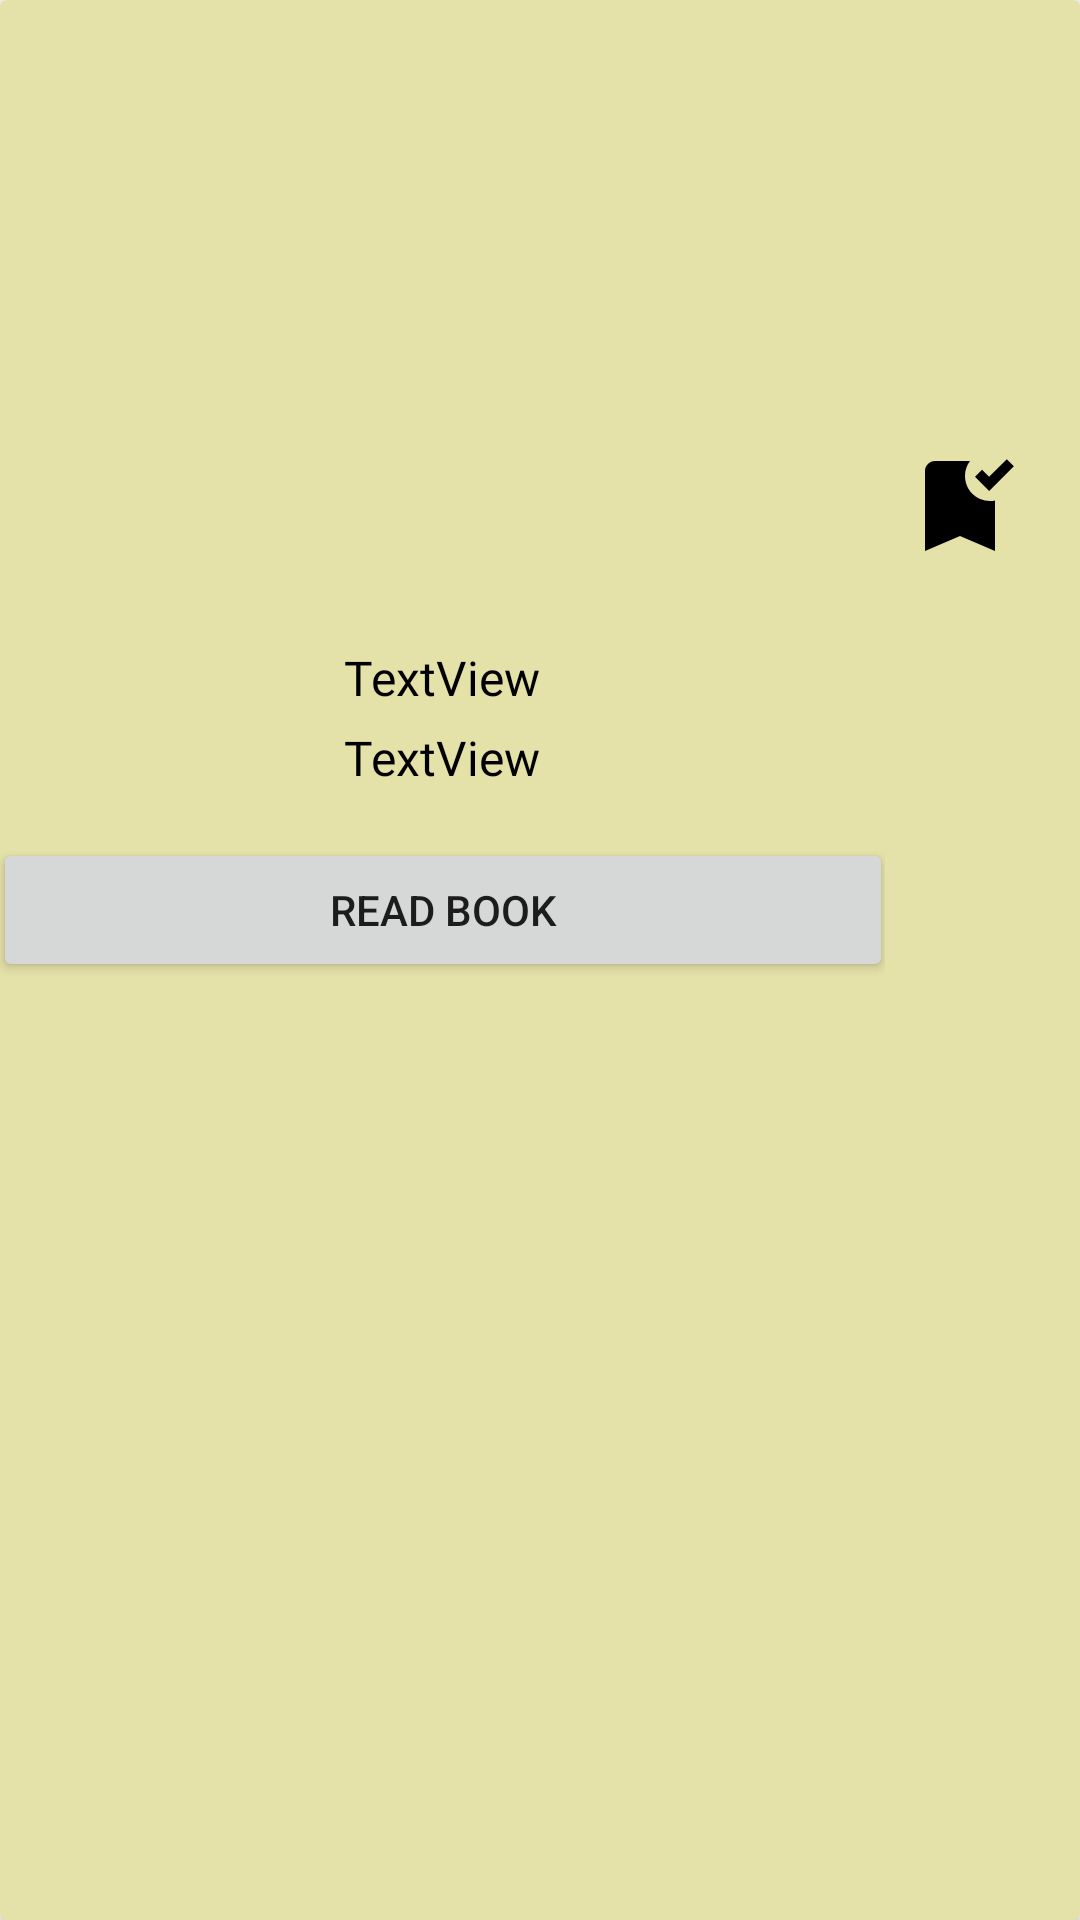

Icon click points for this 1080×1920 phone screenshot, format point (x, y):
favourite true: point (969, 505)
